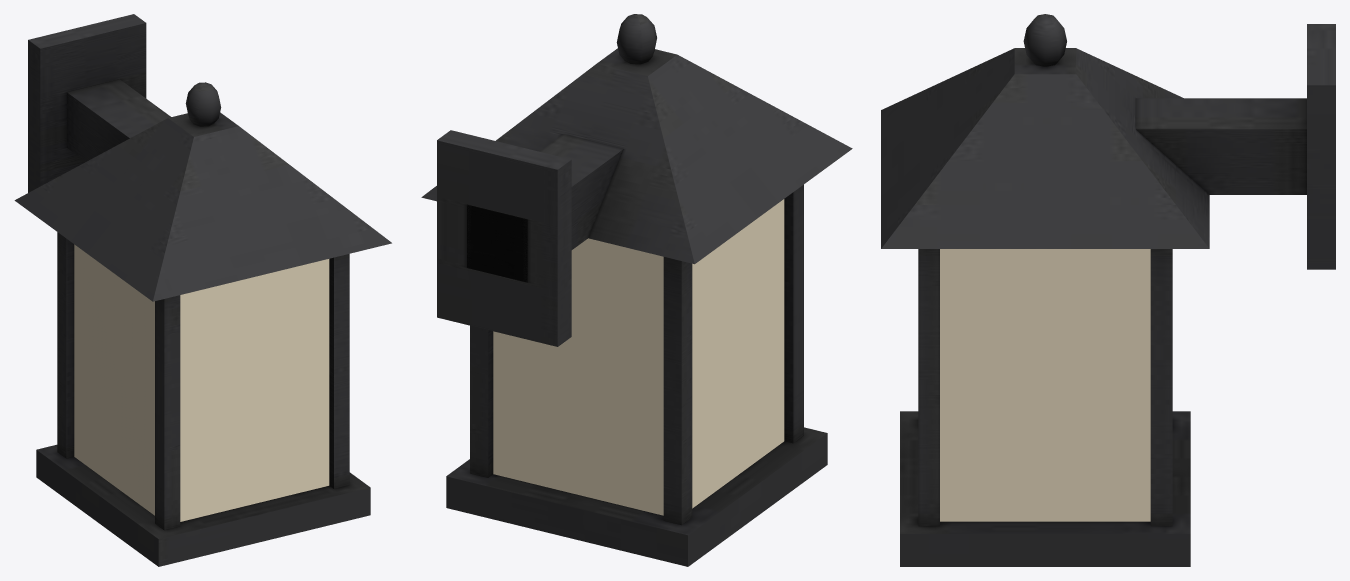
The model's file is door_lamp.glb.
The picture shows the model from 3 angles, left to right: view 1: azimuth 30°, elevation 25°; view 2: azimuth 150°, elevation 25°; view 3: azimuth 270°, elevation 25°; orthographic projection. The views are drawn at different scales.
Parts seen in each view (by area): view 1: base, glass; view 2: base, glass; view 3: base, glass.
Part boxes in pixels (<box>): base: <box>14,14,391,566</box>; glass: <box>74,244,329,521</box>; base: <box>421,14,852,566</box>; glass: <box>493,199,784,515</box>; base: <box>881,14,1335,566</box>; glass: <box>940,249,1150,521</box>.
Size of the model in its own units: 0.2263 by 0.3725 by 0.3131.
2 materials, 1 textured.
